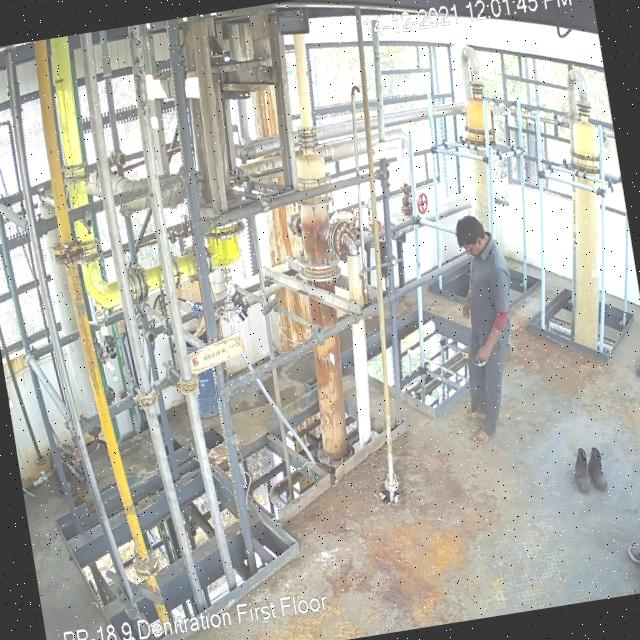boots: (568, 444, 598, 496), (586, 446, 611, 490)
no-boots: (470, 421, 494, 446)
